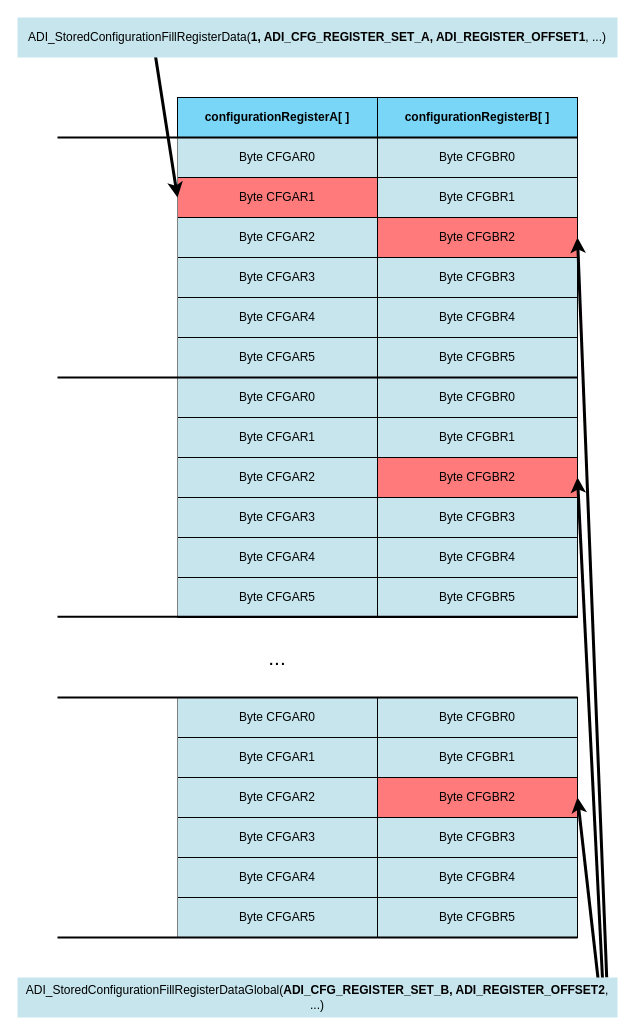
This 634x1034 diagram has some shape labels left out. The shapes that lost their labels are listed below. From the top down, each one's centre as x and y in pixels, then its label:
At (117,257): "Module 0".
At (117,497): "Module 1".
At (117,817): "Module N-1".
